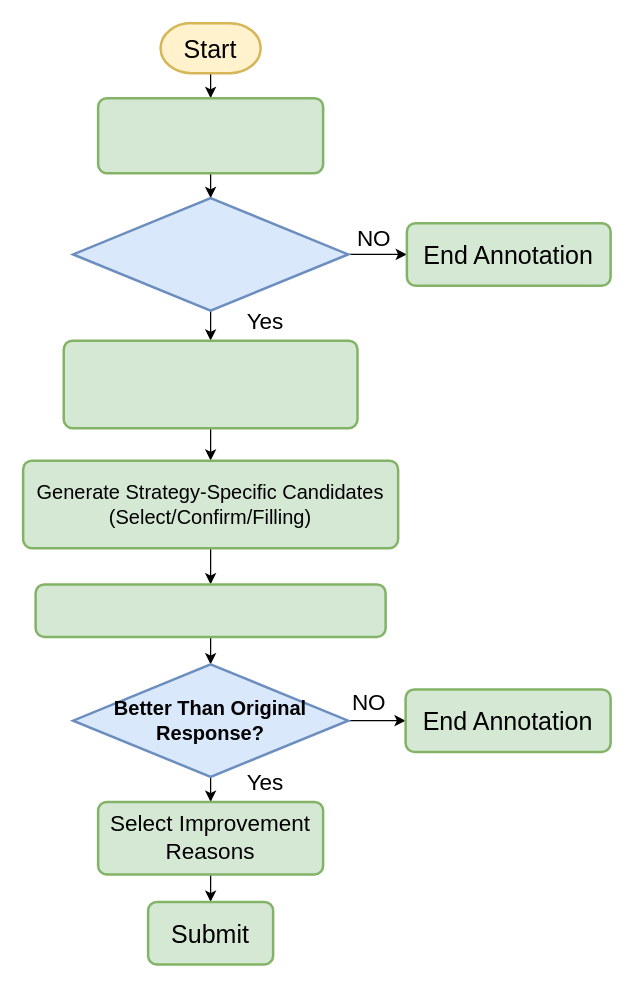
This 633x986 diagram has some shape labels left out. The shapes that lost their labels are listed below. From the top down, each one's box as (x1, y1, x2, y2) in pixels, then its label:
(96, 96, 324, 174): Read Dialogue Context
(71, 196, 349, 311): Need Preference Elicitation?
(62, 339, 358, 429): Select Elicitation Strategy (Item/Attribute/Hybrid)
(34, 582, 386, 638): Select Best Candidate Response
